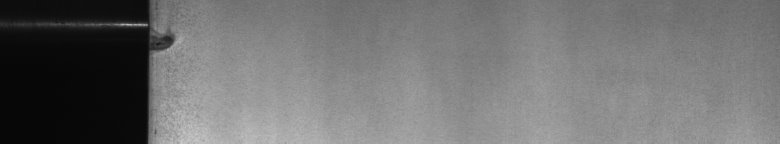hb: (160, 24, 187, 56)
